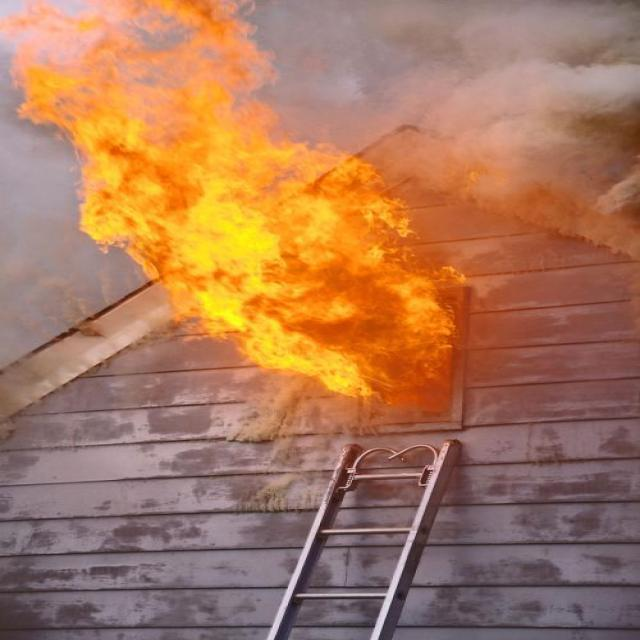Fire: (0, 0, 467, 398)
